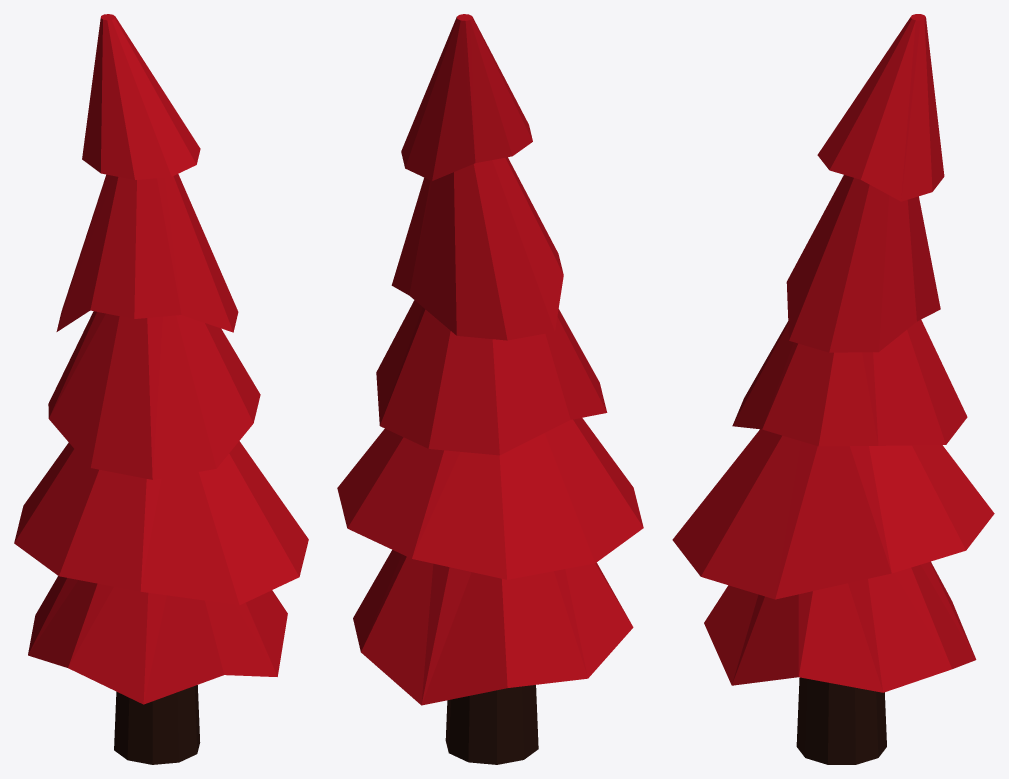
The model's file is t6-purple.obj.
3 views of the same model, side by side, from view 1: azimuth 30°, elevation 25°; view 2: azimuth 150°, elevation 25°; view 3: azimuth 270°, elevation 25° (orthographic). The views are drawn at different scales.
Parts seen in each view (by area): view 1: t6-purple_Cylinder.030; view 2: t6-purple_Cylinder.030; view 3: t6-purple_Cylinder.030.
Part boxes in pixels (x1,y1,x2,y2): t6-purple_Cylinder.030: (14, 14, 308, 764); t6-purple_Cylinder.030: (337, 14, 643, 764); t6-purple_Cylinder.030: (672, 14, 994, 764).
Bounding box in the file's own units: 3.03 × 8.56 × 3.46.
